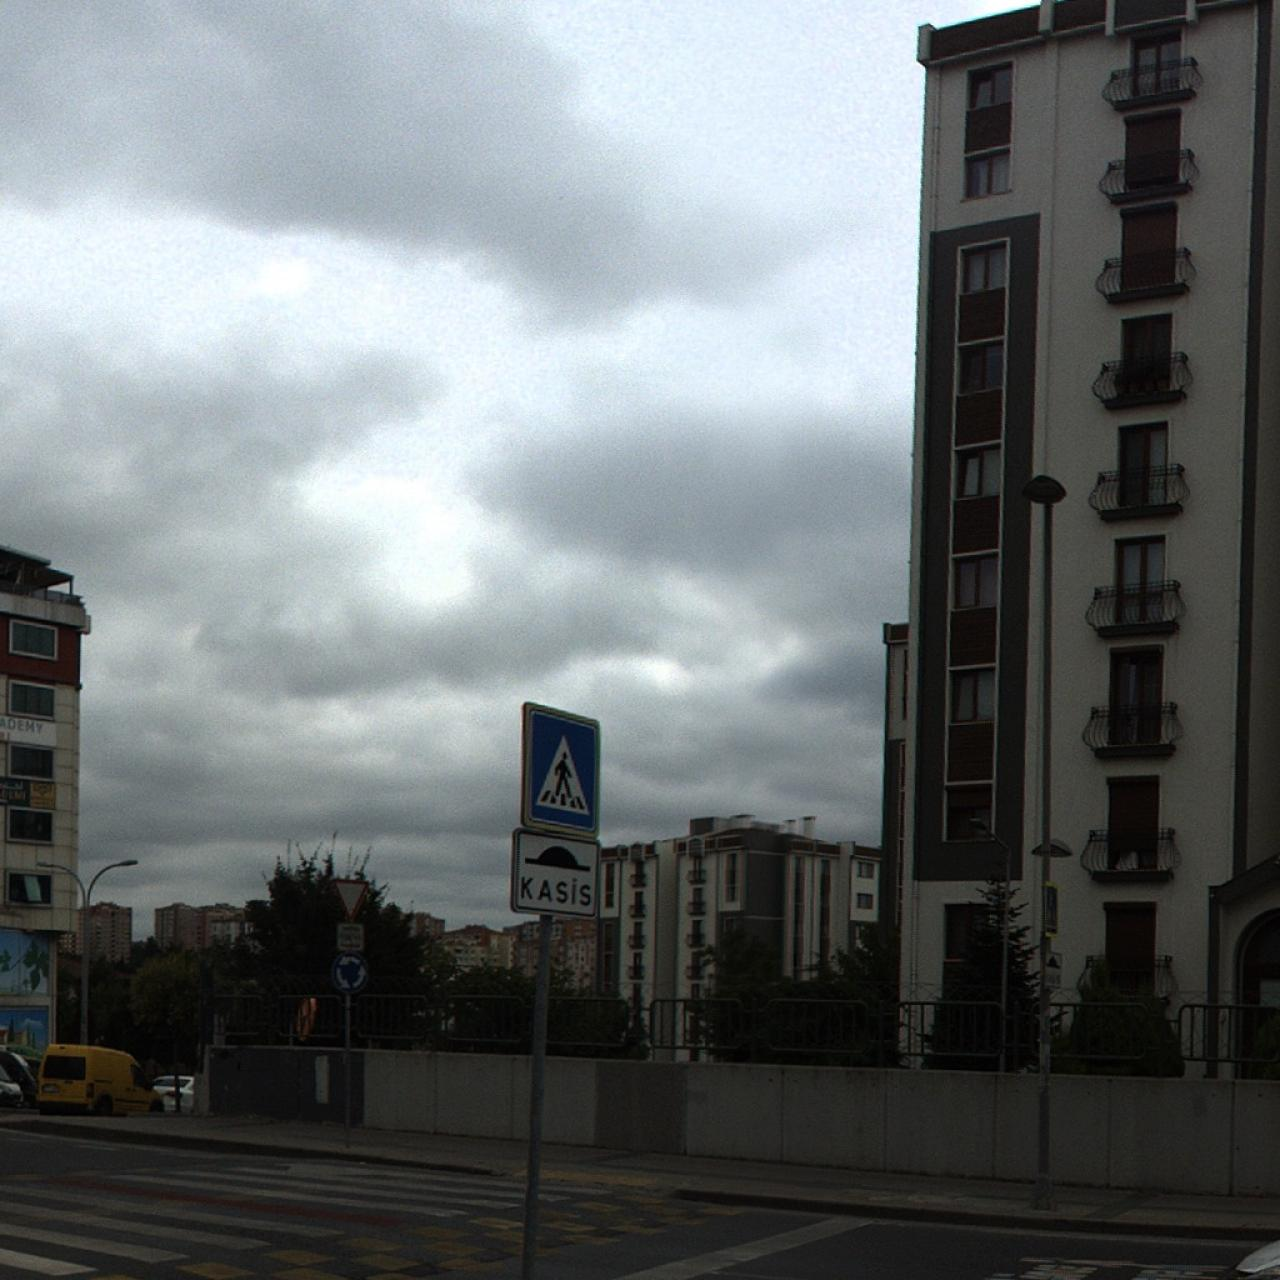SignStore: (5, 775, 56, 810), (7, 714, 57, 748)
